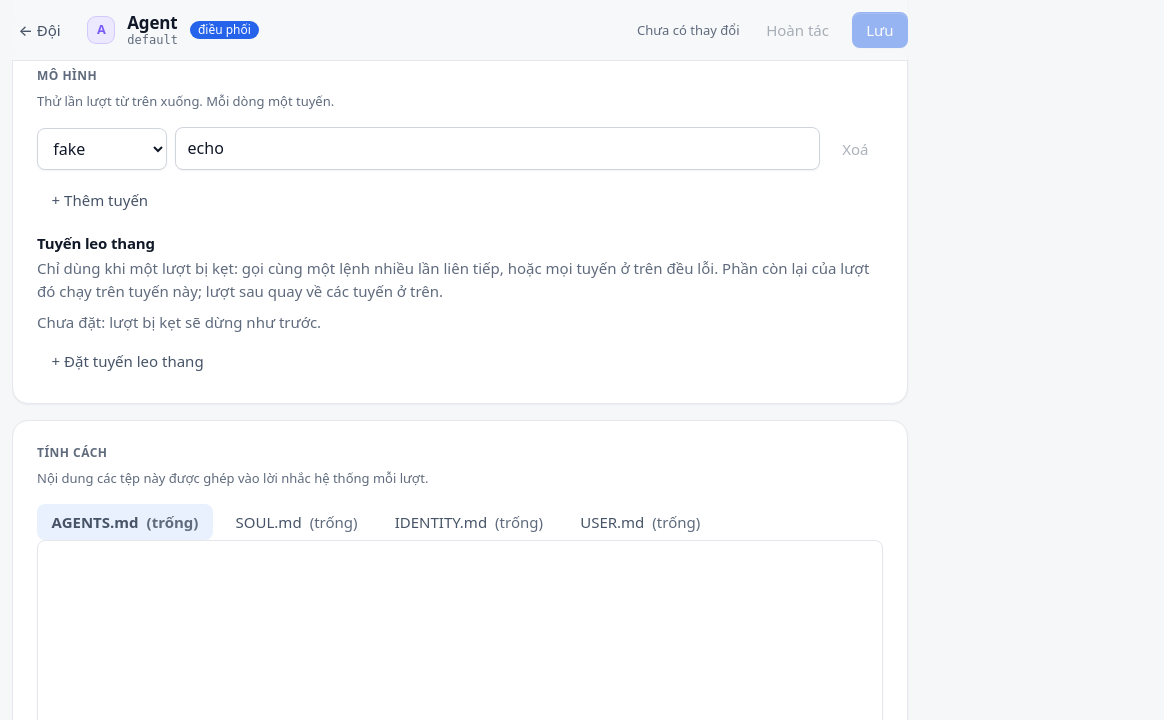
Test case: the escalation route of an agent that names none › is refused, under its own row, while it is one of the routes above
The image size is (1164, 720).
(page scrolled)
Step 1. Click the button "+ Đặt tuyến leo thang" → click(128, 361), box 37,343 -> 218,379
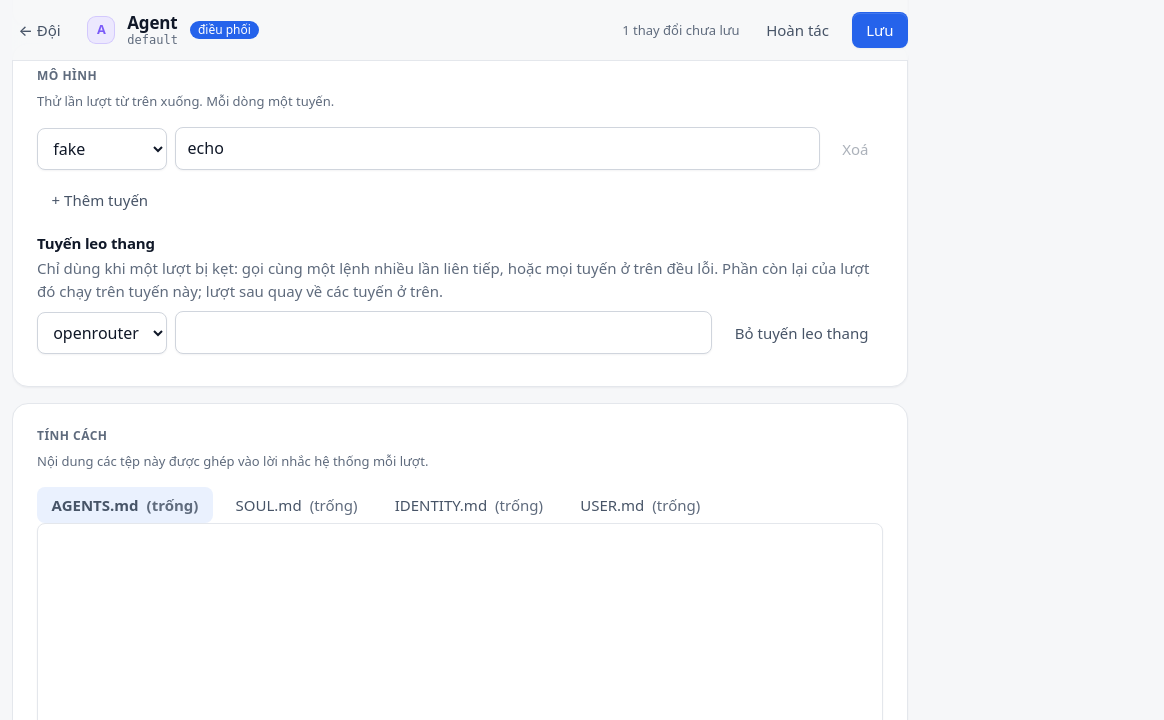
Step 2. Select "fake" in the dropdown named "Tuyến leo thang: Nhà cung cấp" → (102, 333), box 37,312 -> 167,354
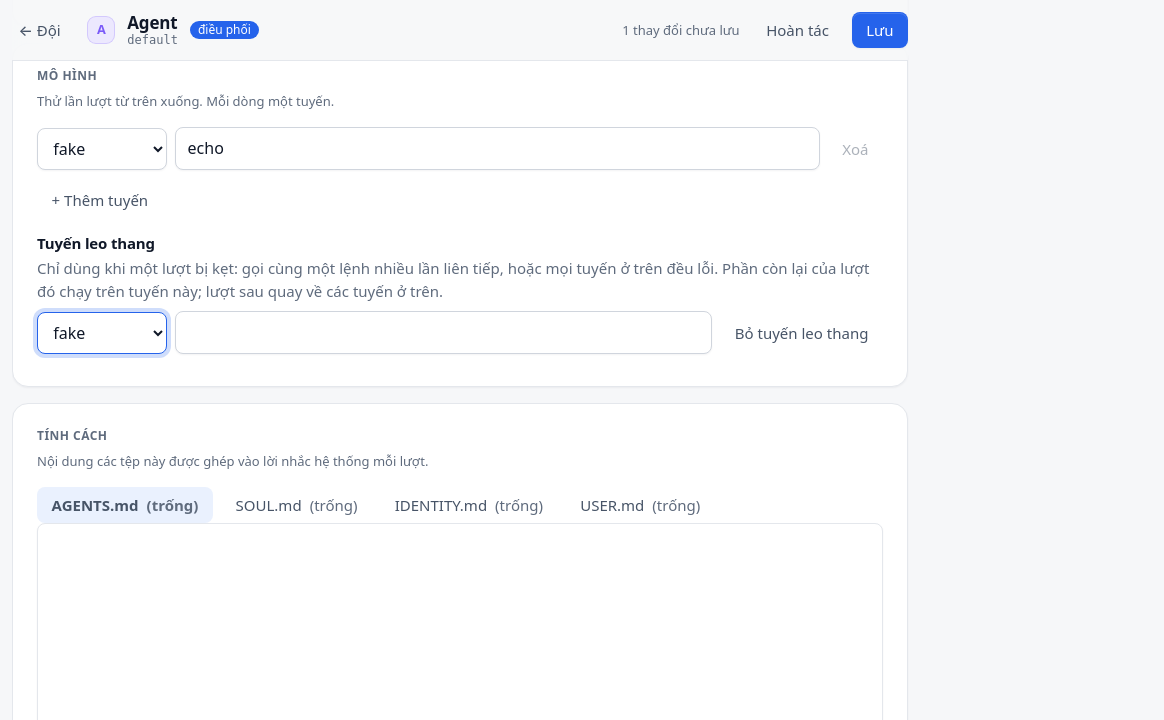
Step 3. Type "echo" into the field named "Tuyến leo thang: Mô hình" → (444, 333), box 175,311 -> 712,354
(page scrolled)
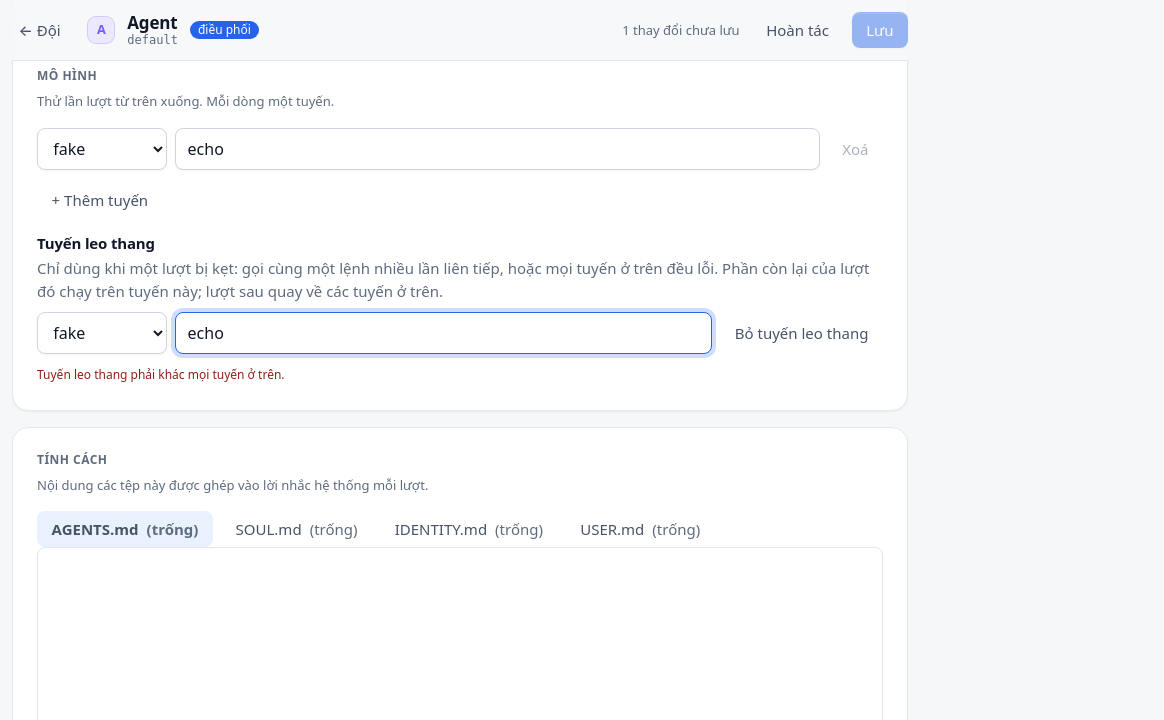
Result: the button "Lưu" is disabled at 852,12 -> 908,48
Step 4. Type "-big" into the field named "Tuyến leo thang: Mô hình" → (444, 333), box 175,312 -> 712,354
(page scrolled)
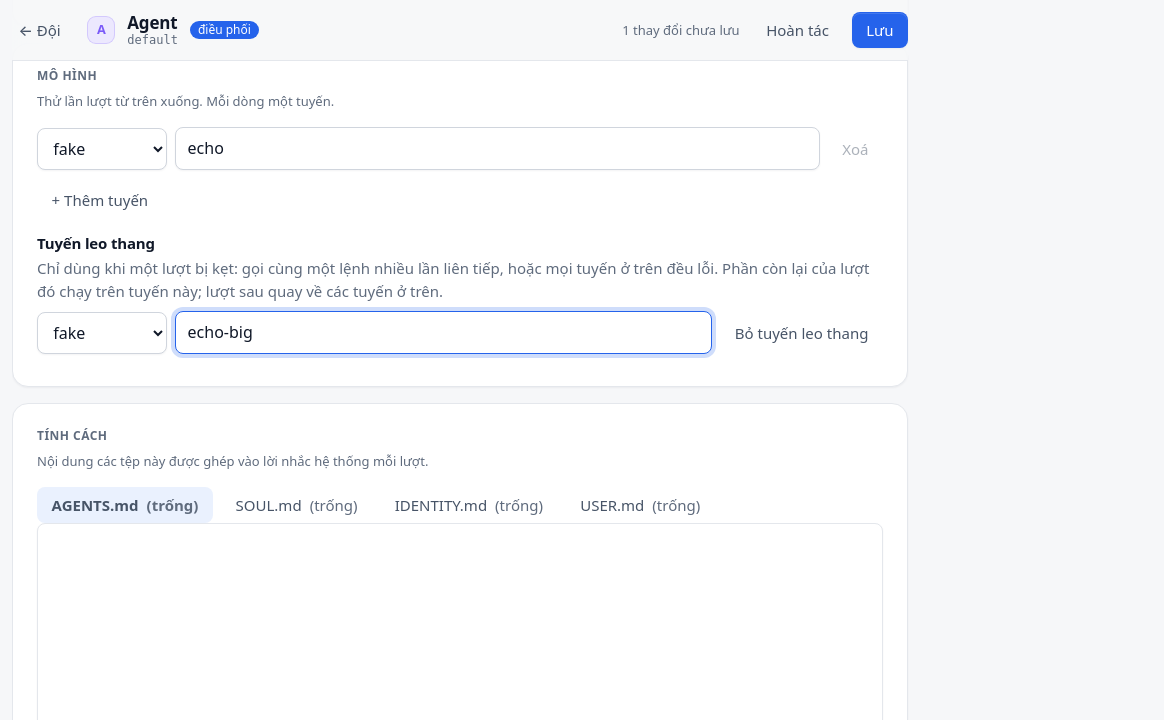
Result: the message "Tuyến leo thang phải khác mọi tuyến ở trên." is gone
Result: the button "Lưu" is enabled at 852,12 -> 908,48
